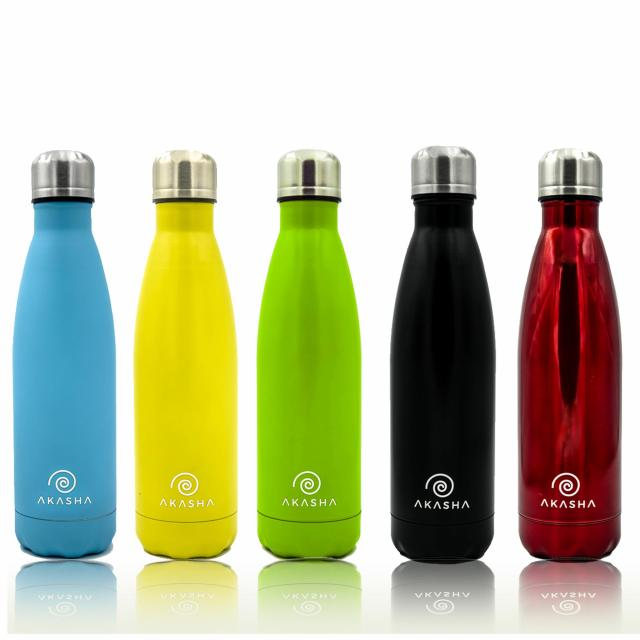metel: (376, 144, 504, 565), (249, 146, 372, 563), (7, 146, 129, 560), (130, 146, 247, 562), (512, 144, 625, 566)
